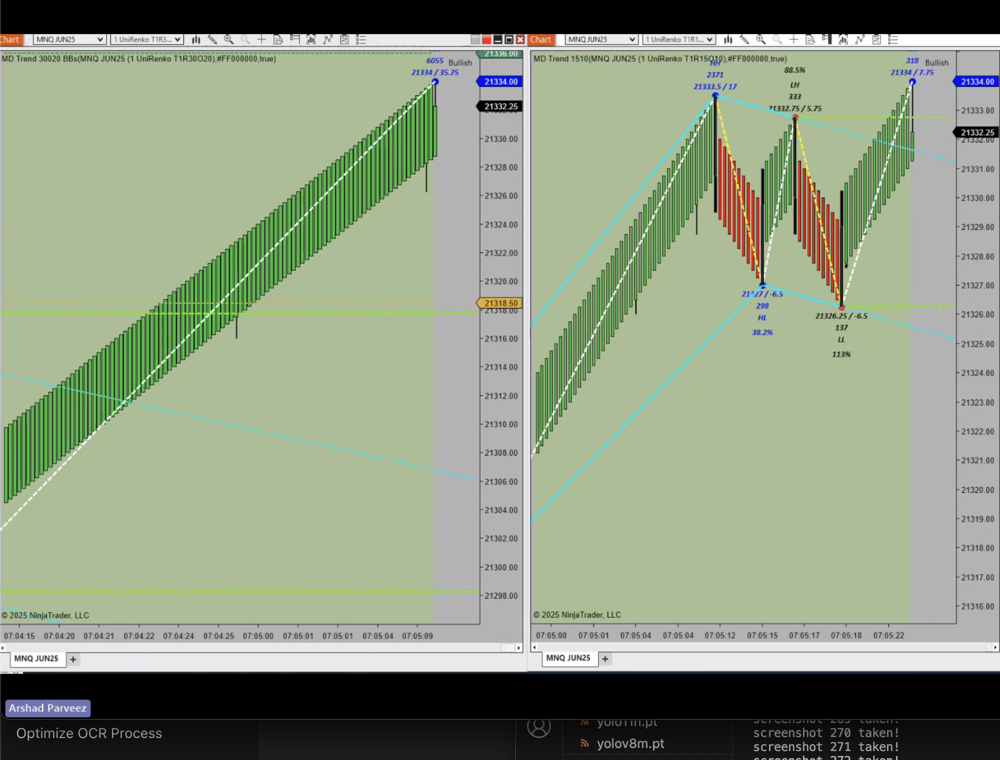HL: (749, 310, 782, 330)
LH: (784, 78, 807, 93)
LL: (834, 331, 851, 347)
